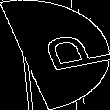P_W: (10, 30, 100, 80)
